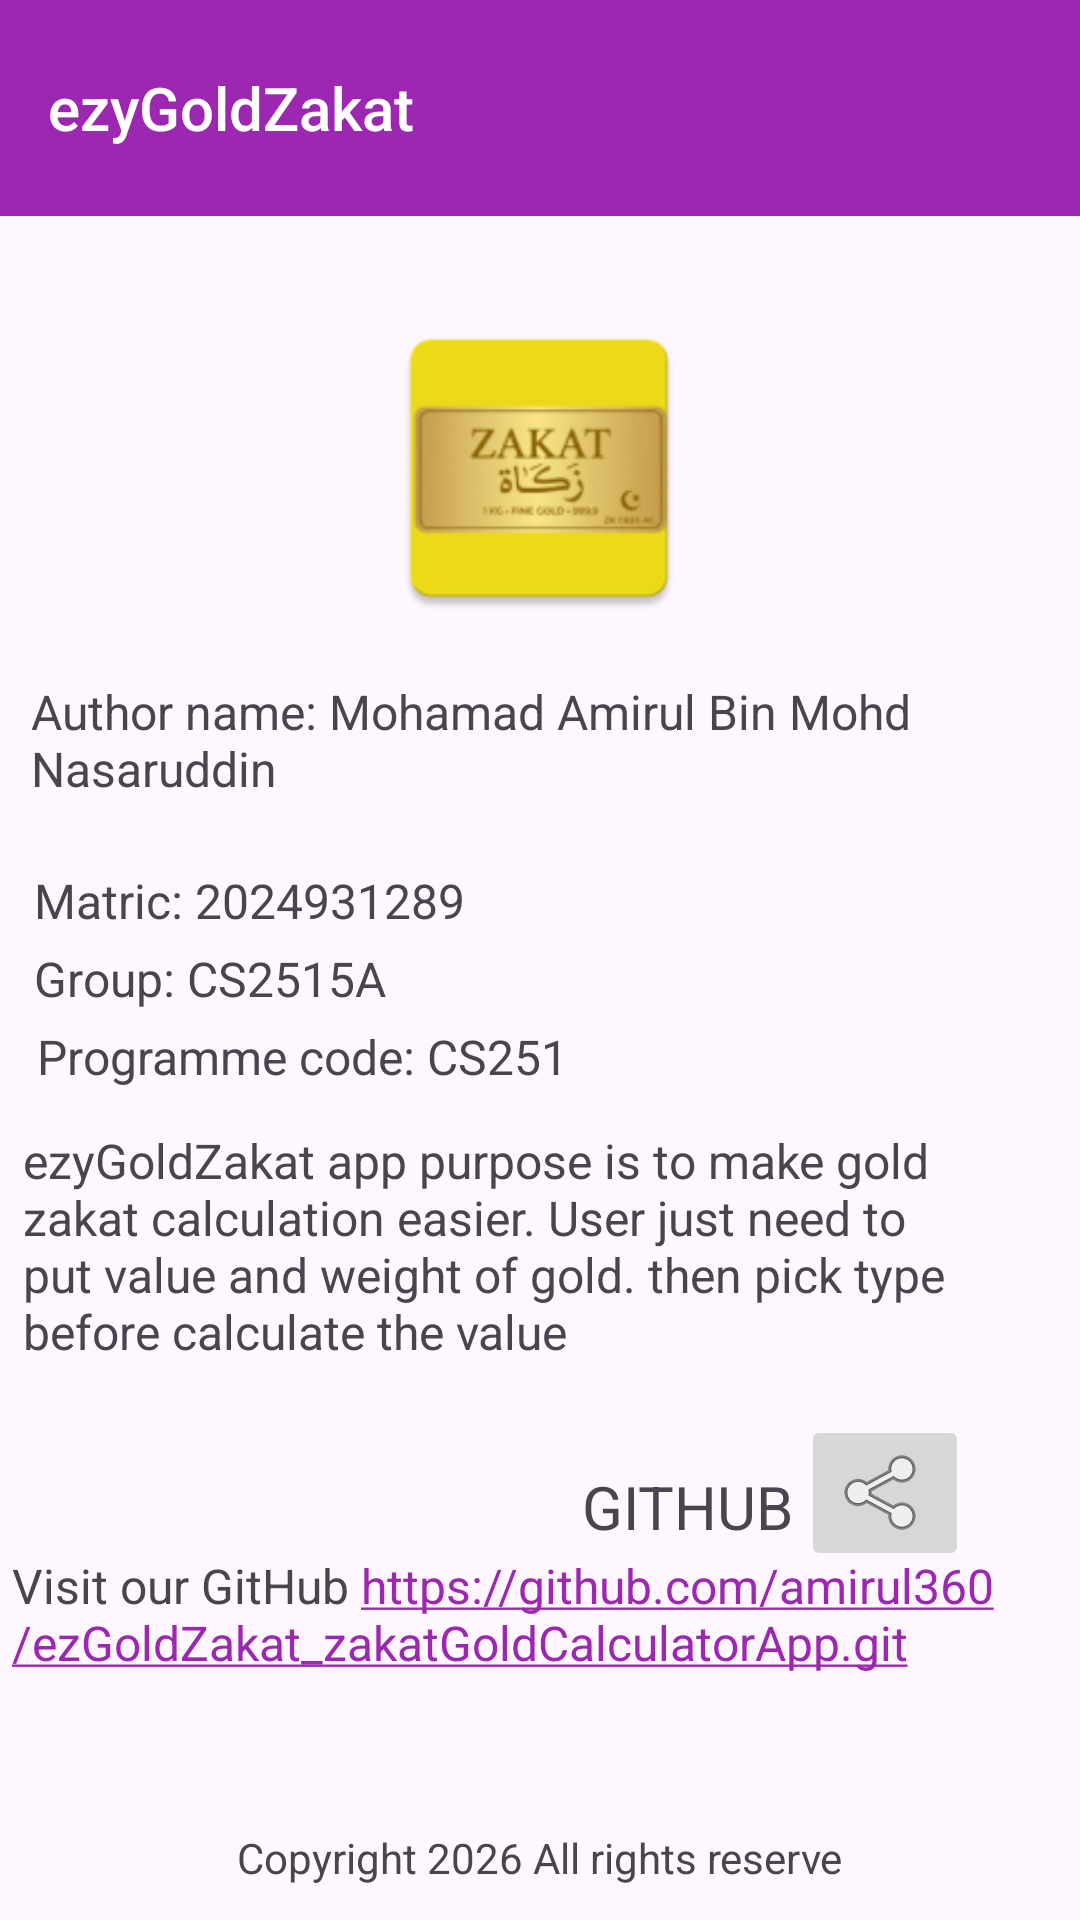

Where to tap for icons on this 1080×1920 app screen, as (x,y):
share: (885,1502)
